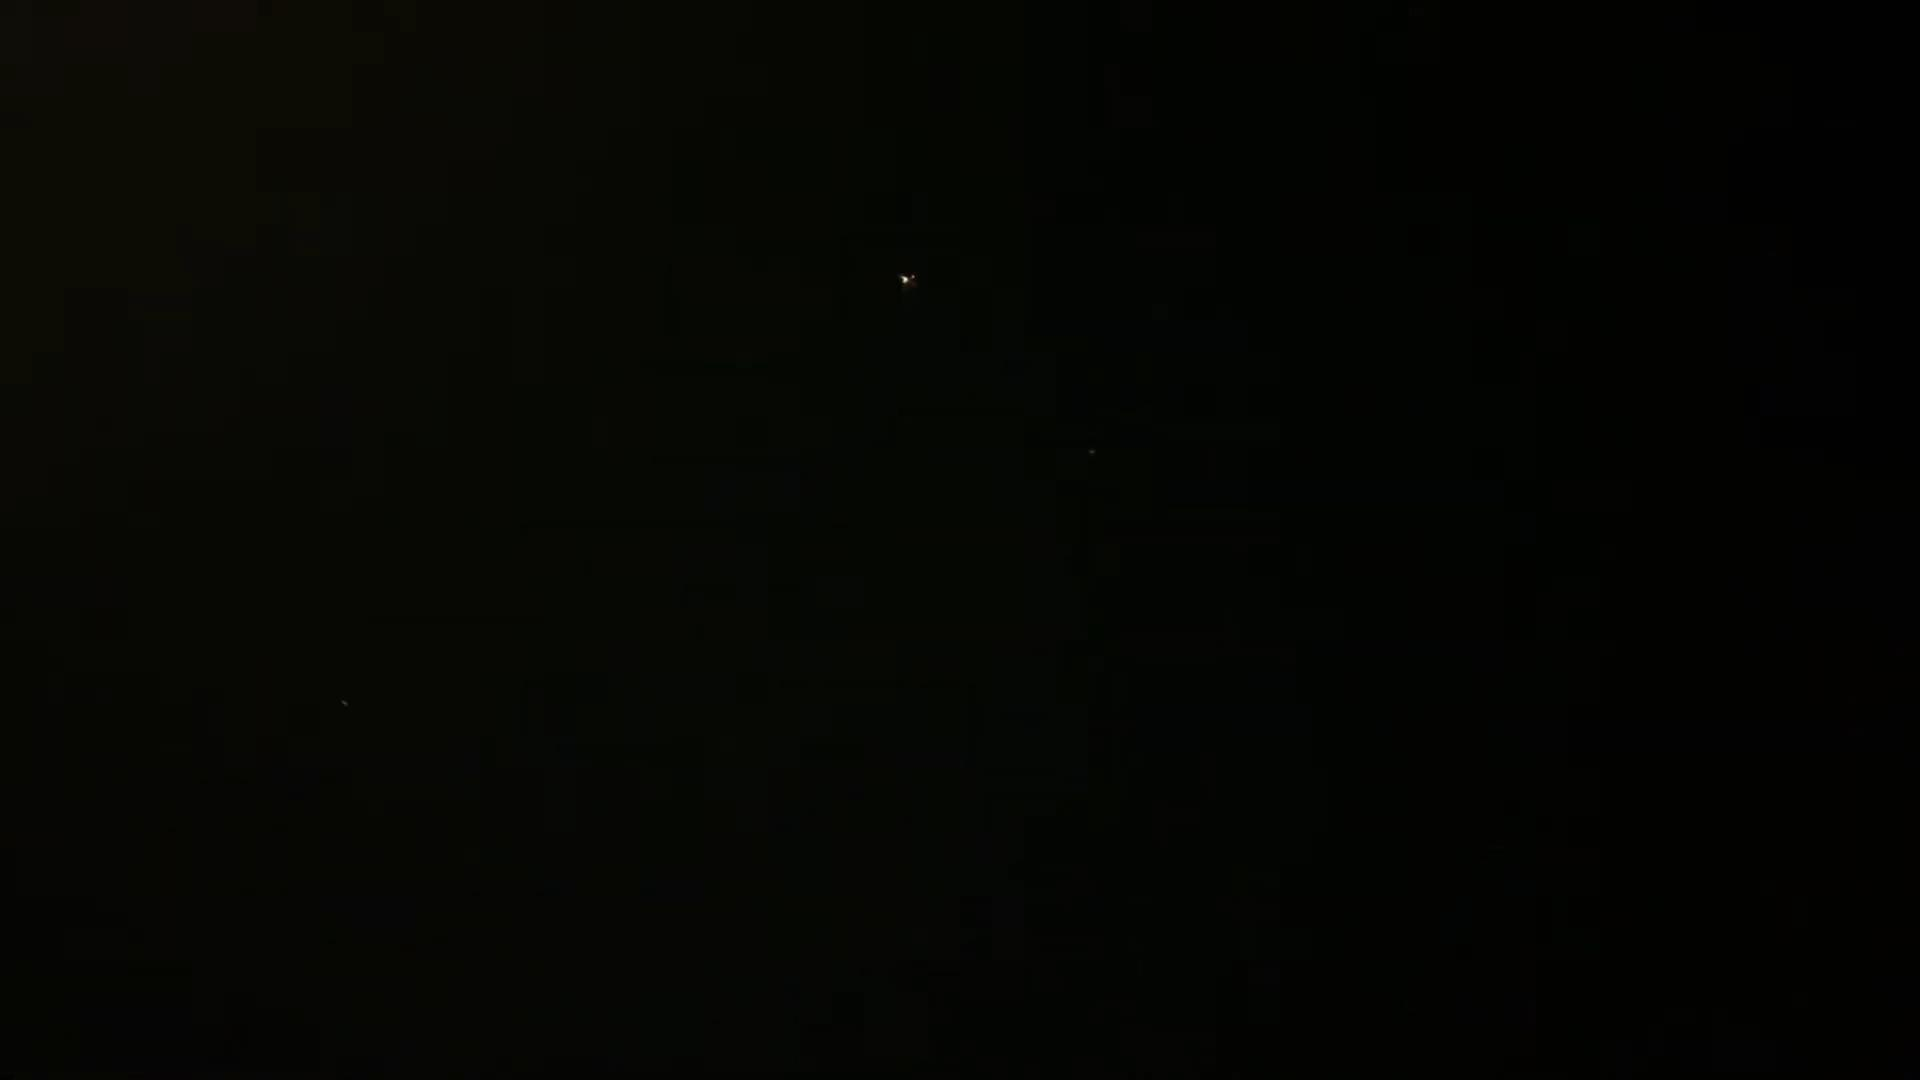Plane: (895, 262, 928, 302)
